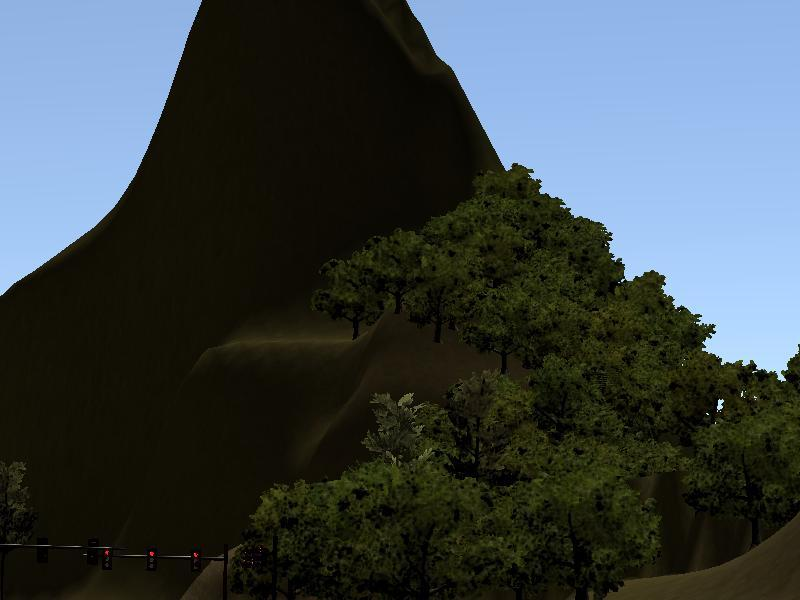Red: (149, 549, 160, 571), (190, 551, 200, 572), (104, 547, 112, 571)
